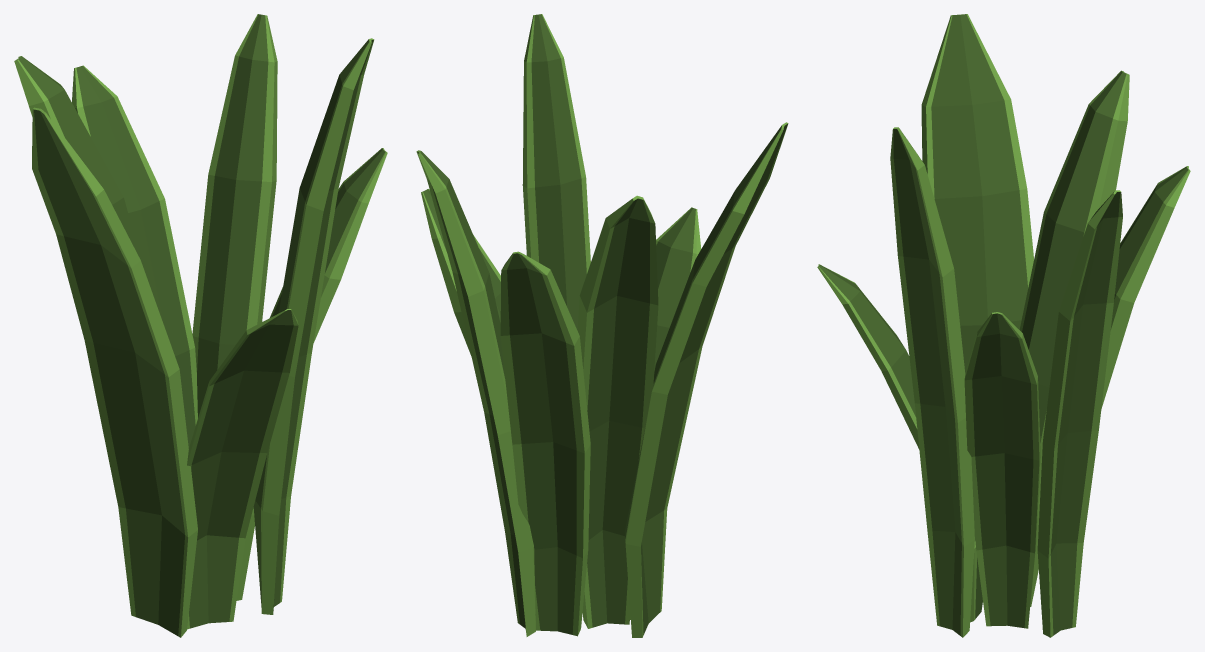
Rendered from Plant_Snake.fbx.
The picture shows the model from 3 angles, left to right: view 1: azimuth 30°, elevation 25°; view 2: azimuth 150°, elevation 25°; view 3: azimuth 270°, elevation 25°; orthographic projection. The views are drawn at different scales.
Parts seen in each view (by area): view 1: Cube; view 2: Cube; view 3: Cube.
Boxes of the visible parts, x1=… form: Cube: x1=14, y1=14, x2=387, y2=637; Cube: x1=416, y1=14, x2=788, y2=637; Cube: x1=817, y1=14, x2=1190, y2=637.
Size of the model in its own units: 8.45 by 12.74 by 7.94.
